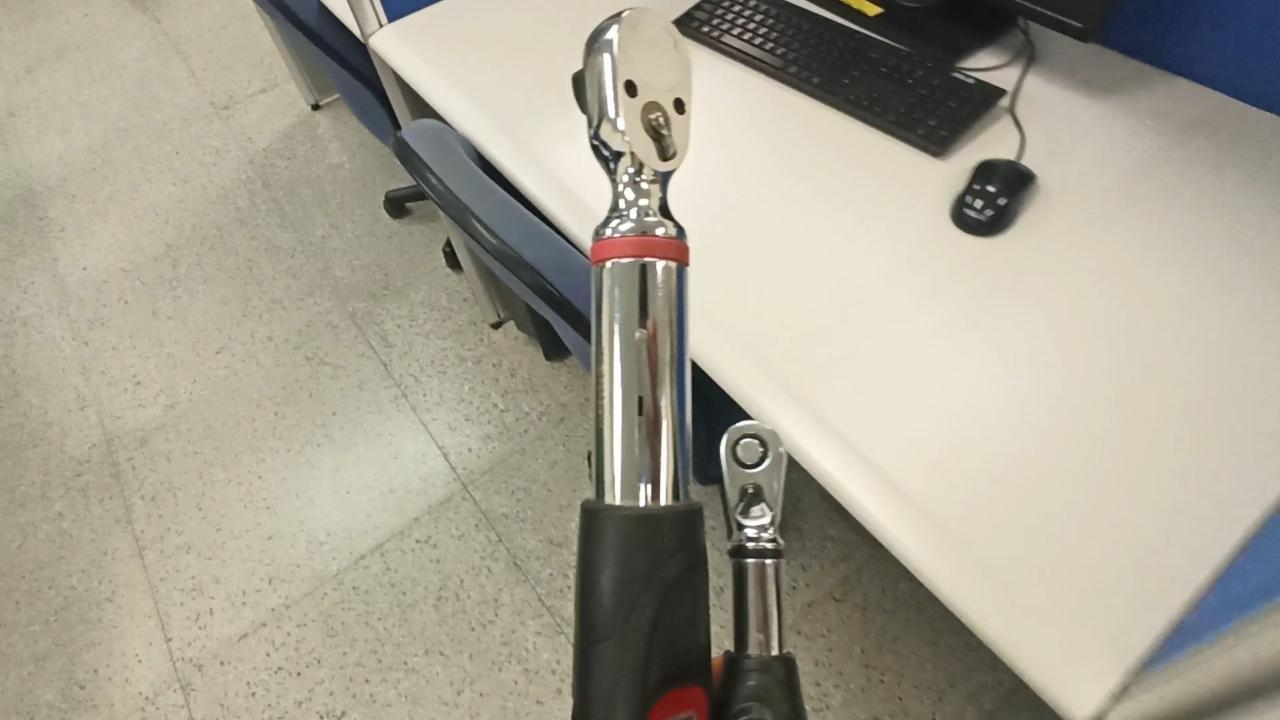Tool: (579, 11, 695, 238), (717, 411, 787, 553)
